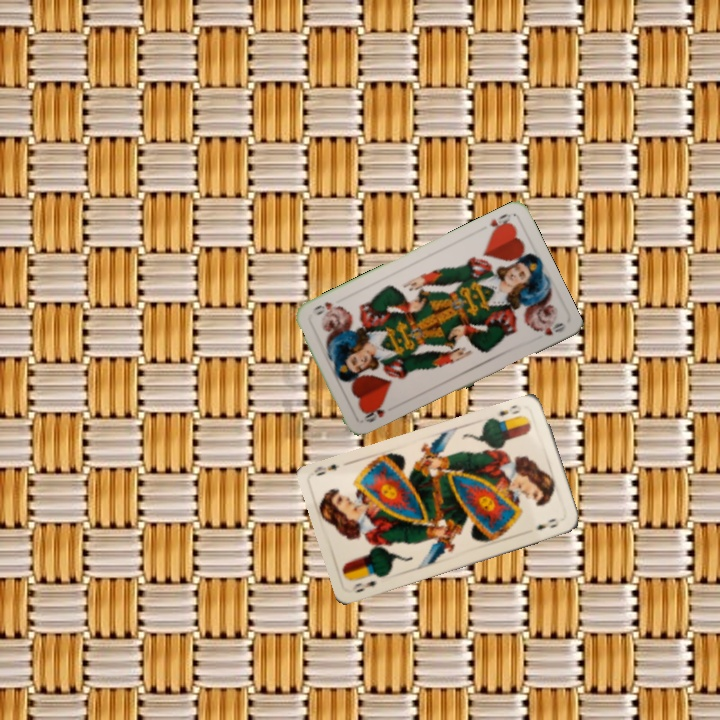EO: (347, 576, 379, 595), (494, 401, 523, 419)
HO: (485, 209, 514, 237), (360, 405, 387, 425)
